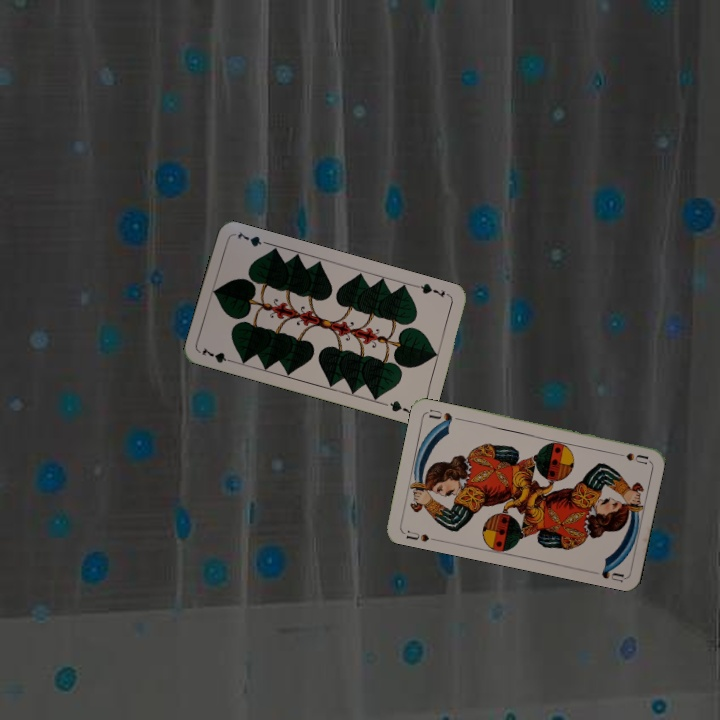G7: (198, 343, 238, 366), (412, 279, 447, 300)
SU: (609, 448, 650, 467), (402, 527, 432, 544)
